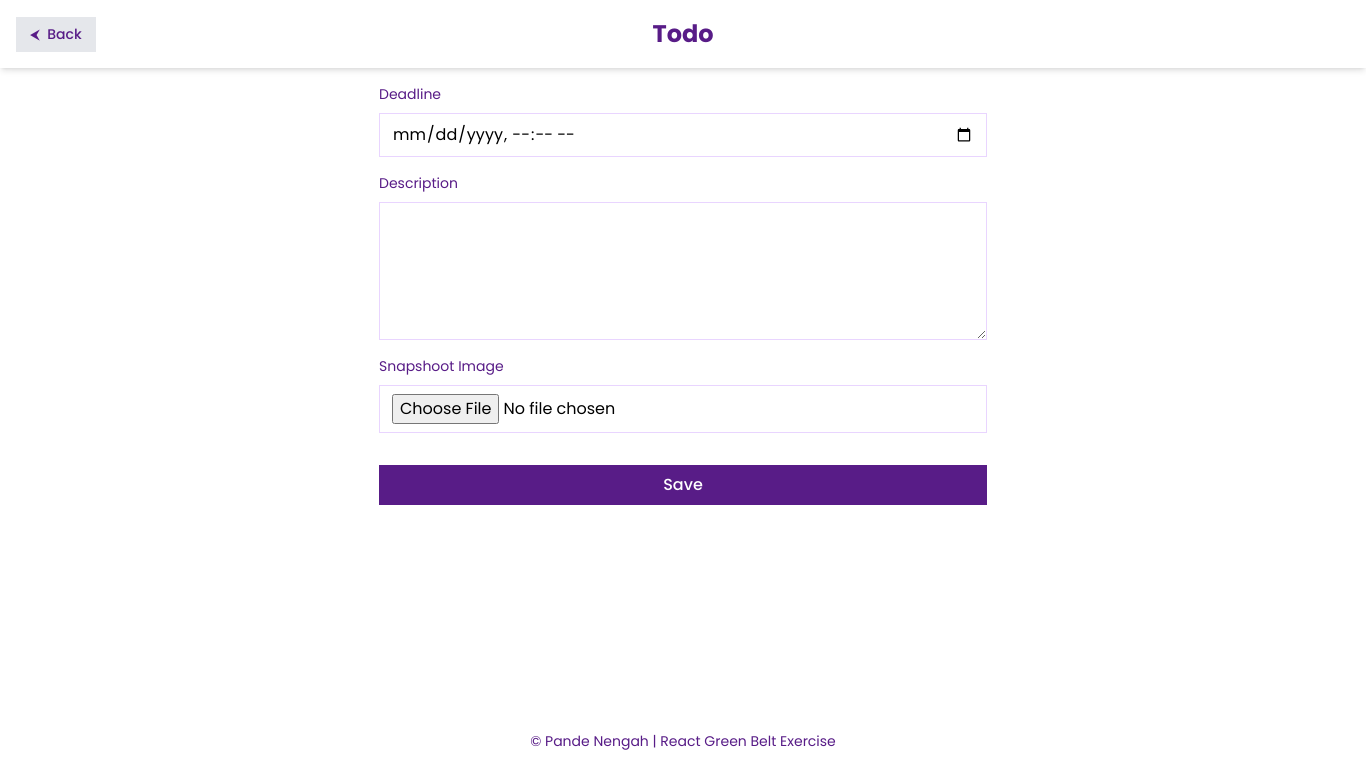
Test: TodoAdd › should render error message
The width and height of the screenshot is (1366, 768).
Click the button "Save".
click(683, 485)  # box [379,465,987,505]
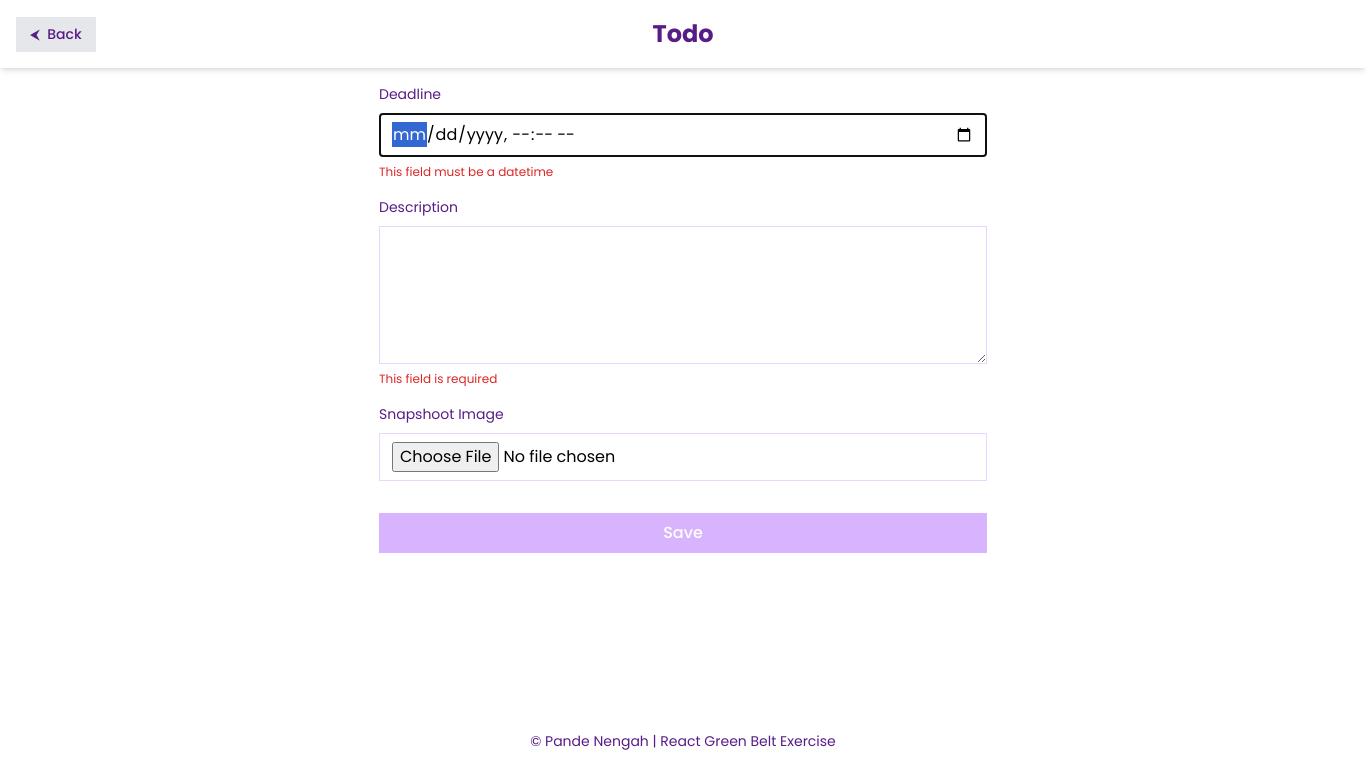
expect the number of elements with test id "errorMsgElm" is 2: met, box [379,163,553,180]; [379,370,497,387]
